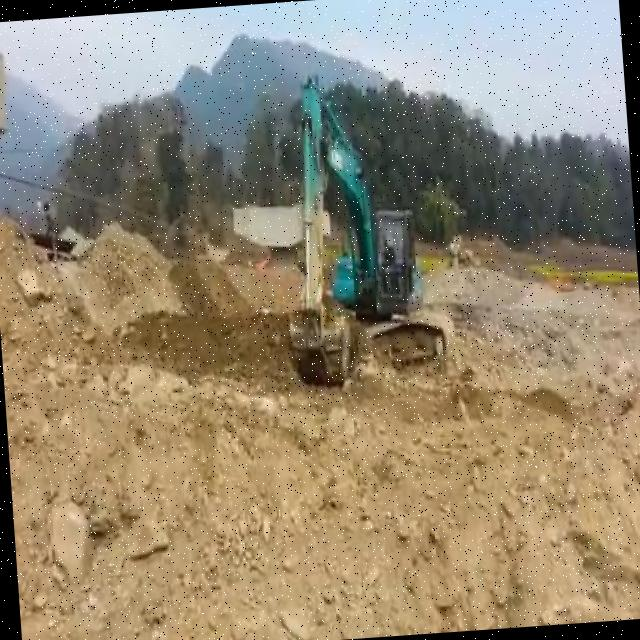Excavator: (268, 56, 448, 394)
